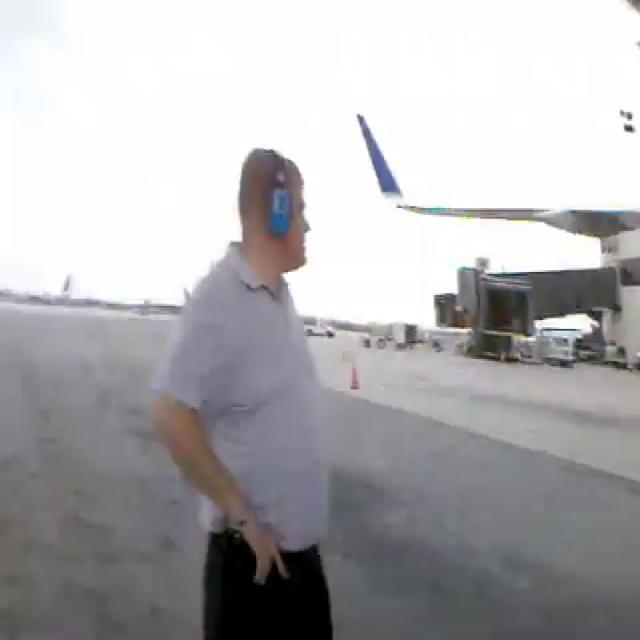earmuff: (263, 177, 292, 236)
